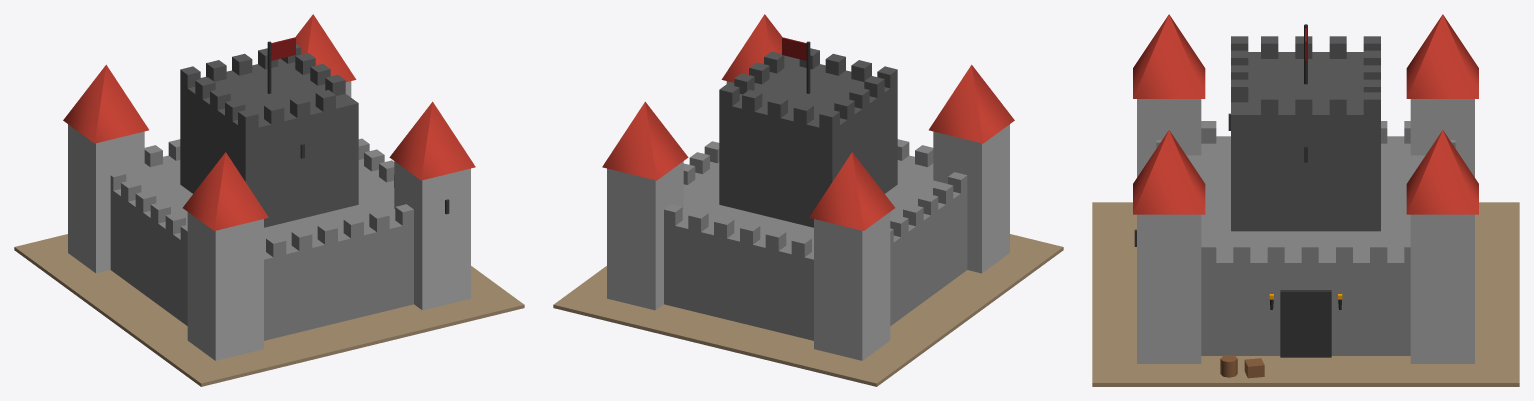
File: castle.glb
3 renders of one model, left to right at view 1: azimuth 30°, elevation 25°; view 2: azimuth 150°, elevation 25°; view 3: azimuth 270°, elevation 25°, orthographic. The views are drawn at different scales.
Visible parts, largest first — view 1: BaseFortress, CentralKeep, OuterGround, TowerNW, TowerNE, TowerSW, TowerNERoof, TowerSWRoof, TowerNWRoof, TowerSERoof, FactionFlag; view 2: BaseFortress, CentralKeep, OuterGround, TowerSW, TowerSE, TowerNW, TowerSERoof, TowerNWRoof, TowerSWRoof, TowerNERoof, FactionFlag; view 3: BaseFortress, OuterGround, CentralKeep, TowerNE, TowerSE, TowerNERoof, TowerSERoof, TowerNWRoof, TowerSWRoof, MainGate, TowerNW, TowerSW (+4 smaller).
Part boxes in pixels (x1,y1,x2,y2): BaseFortress: (110,155,413,340); CentralKeep: (180,58,358,227); OuterGround: (14,234,524,386); TowerNW: (187,212,263,360); TowerNE: (394,161,470,310); TowerSW: (68,124,144,273); TowerNERoof: (389,101,475,180); TowerSWRoof: (63,64,148,143); TowerNWRoof: (183,152,268,230); TowerSERoof: (295,14,356,82); FactionFlag: (271,37,295,60); BaseFortress: (664,155,967,340); CentralKeep: (719,55,897,227); OuterGround: (553,234,1063,386); TowerSW: (814,212,890,360); TowerSE: (607,161,683,310); TowerNW: (933,124,1009,273); TowerSERoof: (602,101,688,180); TowerNWRoof: (929,64,1014,143); TowerSWRoof: (809,152,894,230); TowerNERoof: (721,14,782,82); FactionFlag: (782,37,806,60); BaseFortress: (1186,136,1425,355); OuterGround: (1092,202,1519,386); CentralKeep: (1231,52,1380,231); TowerNE: (1137,214,1201,363); TowerSE: (1410,214,1474,363); TowerNERoof: (1133,130,1205,214); TowerSERoof: (1406,130,1478,214); TowerNWRoof: (1133,14,1205,98); TowerSWRoof: (1406,14,1478,98); MainGate: (1280,290,1331,357); TowerNW: (1137,99,1201,177); TowerSW: (1410,99,1474,177).
Size of the model in its own units: 10 by 7 by 10.
